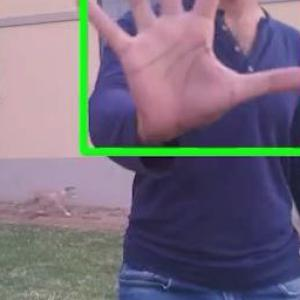follow_hand: (67, 0, 299, 149)
